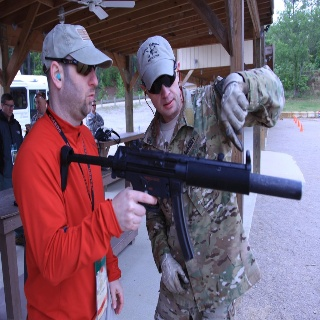rifle: (59, 141, 304, 262)
